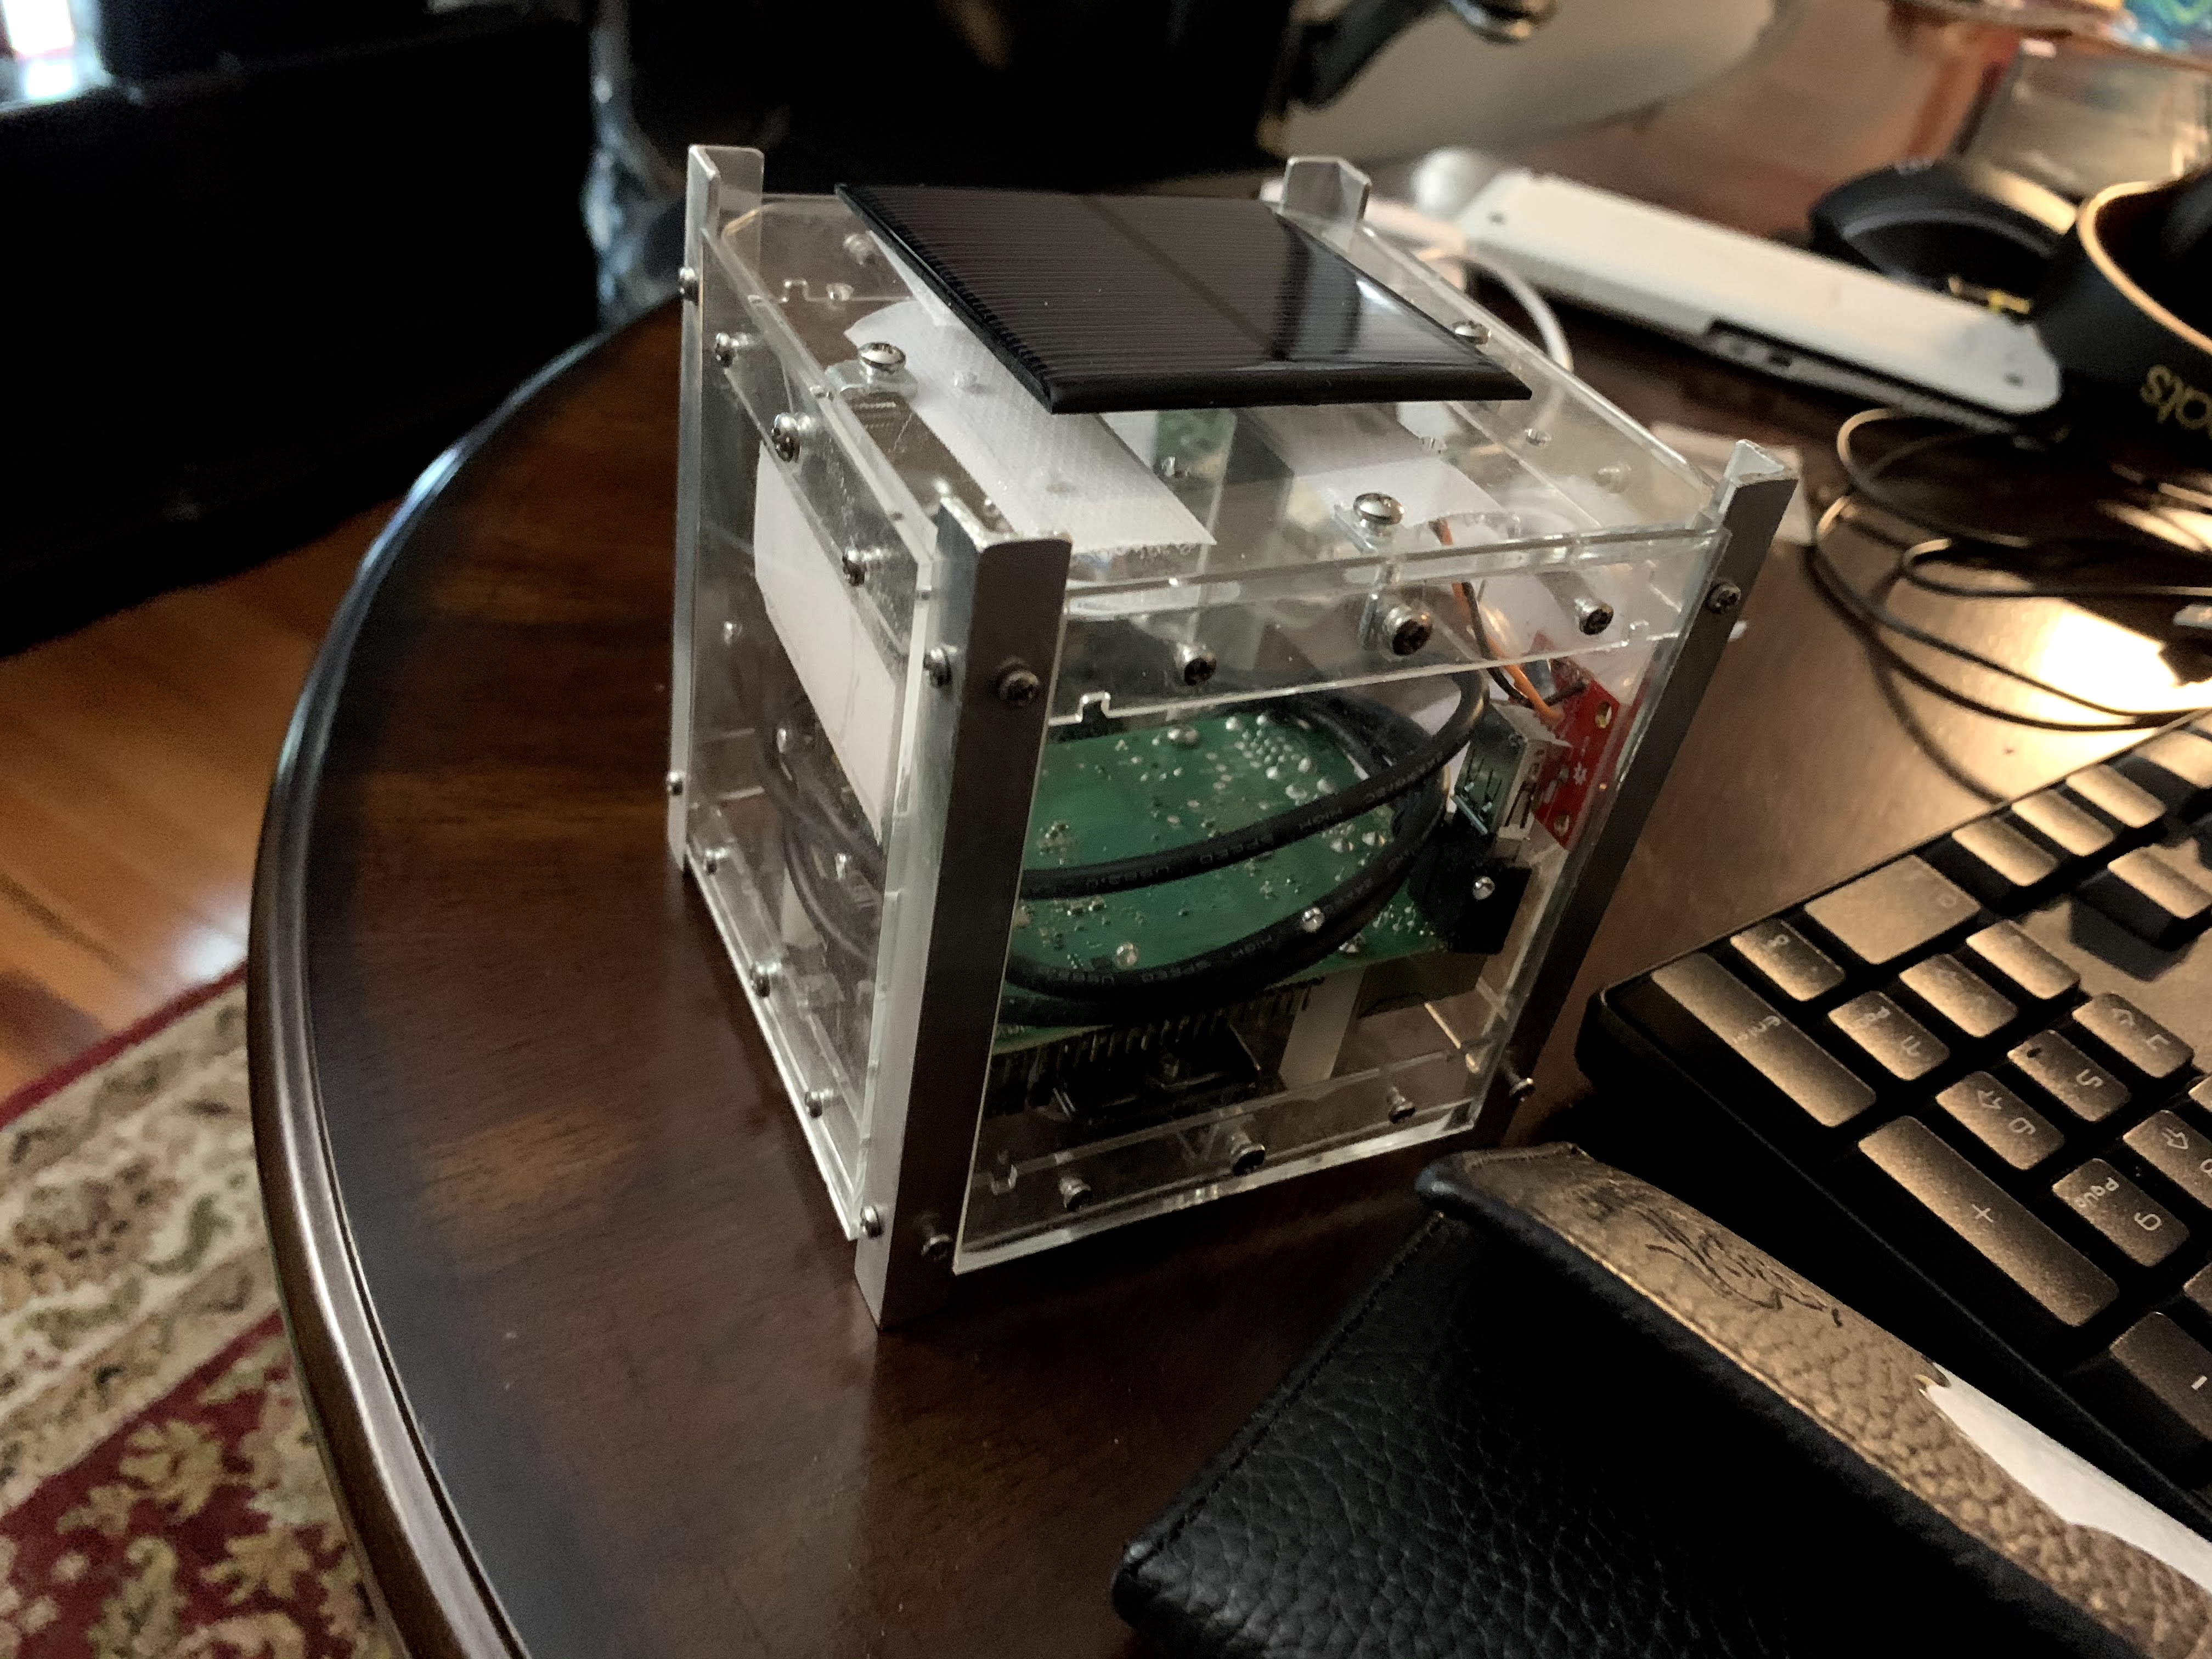Space-debris-cubesat: (625, 106, 1811, 1340)
